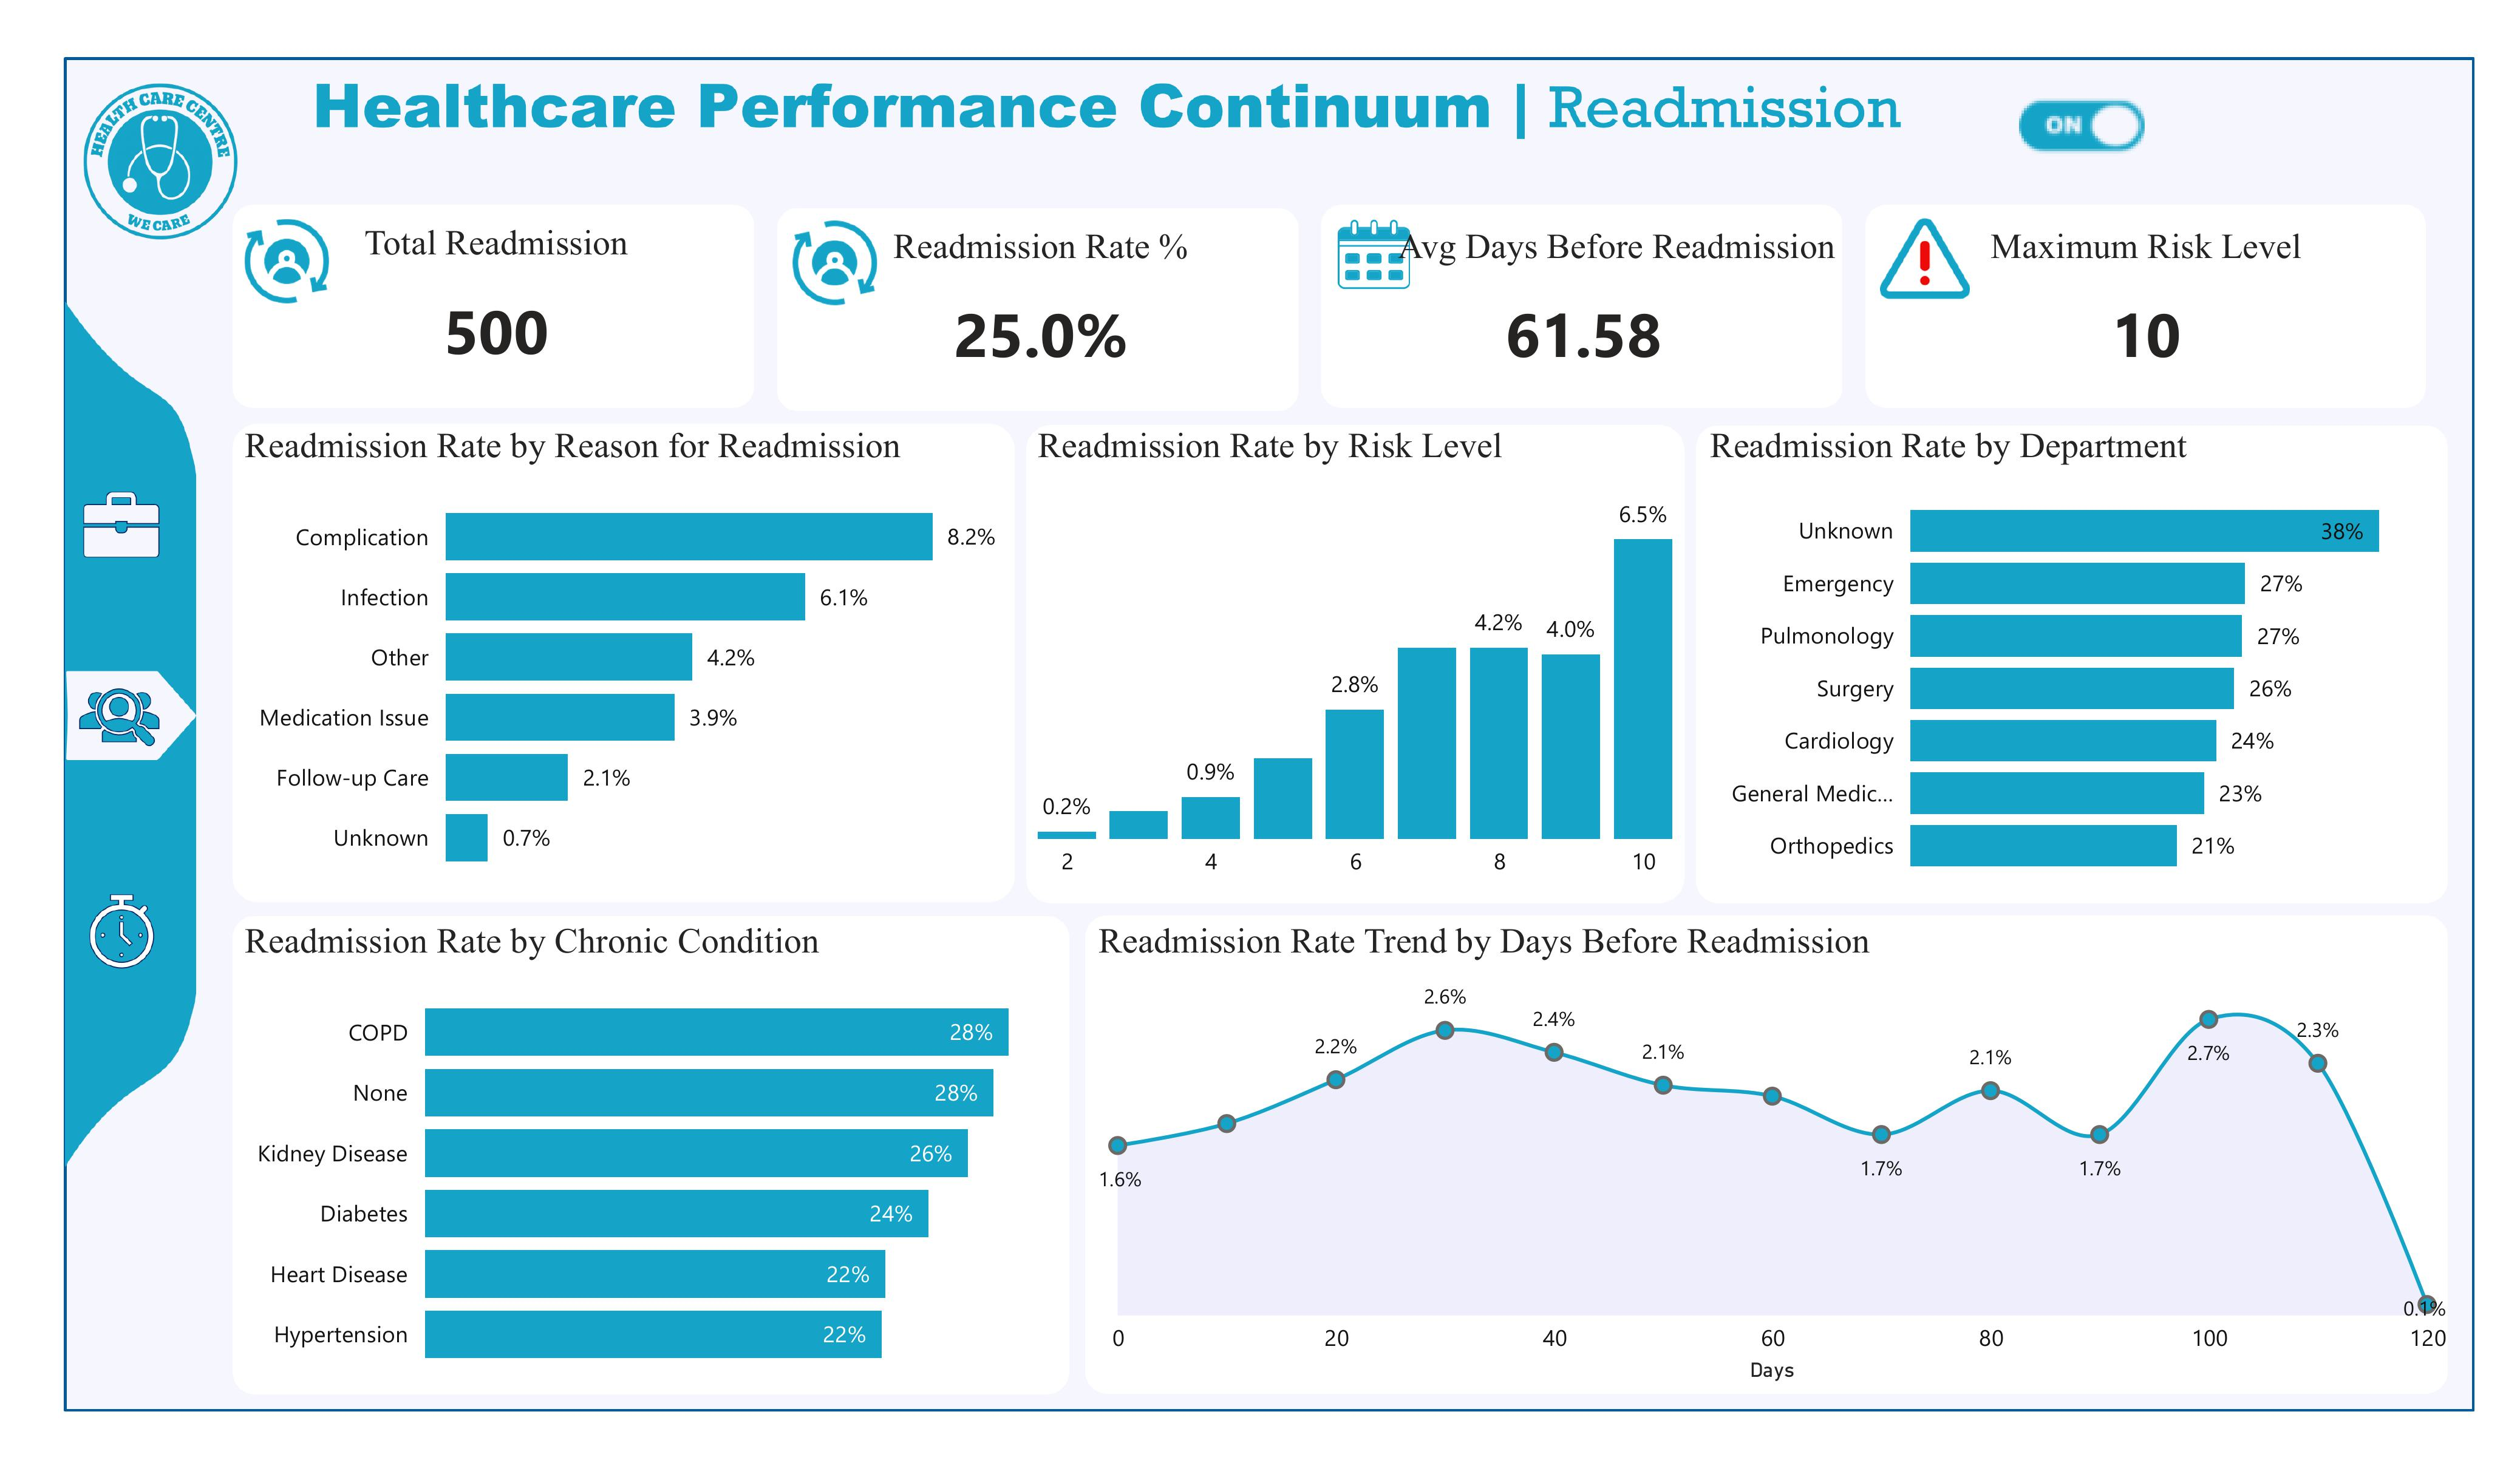

Layout of this report page (visuals, bound fields, positions):
{"tool":"powerbi","page":{"name":"Readmission","canvas":[1280,720],"ordinal":1},"visuals":[{"type":"card","title":"Total Readmission","fields":{"Values":["CountNonNull(Cleaned readmissions.Patient_ID)"]},"box":[100,78.5,275.3,108.6],"z":0},{"type":"card","title":"Readmission Rate %","fields":{"Values":["Cleaned readmissions.Readmission Rate (%)"]},"box":[387.1,80,275.3,108.2],"z":2000},{"type":"card","title":"Avg Days Before Readmission","fields":{"Values":["Avg(Cleaned readmissions.Days_Before_Readmission)"]},"box":[672.9,80,275.3,108.2],"z":3000},{"type":"card","title":"Maximum Risk Level","fields":{"Values":["Max(Cleaned readmissions.Previous_Risk_Score)"]},"box":[961.2,80,291.8,108.2],"z":4000},{"type":"clusteredBarChart","title":"Readmission Rate by Reason for Readmission","fields":{"Category":["Cleaned readmissions.Reason_For_Readmission"],"Y":["Cleaned readmissions.Readmission Rate (%)"]},"box":[100,200,408.2,248.2],"z":5000},{"type":"clusteredColumnChart","title":"Readmission Rate by Risk Level","fields":{"Category":["Cleaned readmissions.Previous_Risk_Score"],"Y":["Cleaned readmissions.Readmission Rate (%)"]},"box":[517.6,200,344.7,248.2],"z":6000},{"type":"clusteredBarChart","title":"Readmission Rate by Department","fields":{"Y":["Cleaned readmissions.Readmission Rate (%)"],"Category":["Cleaned patients.Admission_Department"]},"box":[871.8,200,391.8,249.4],"z":7000},{"type":"clusteredBarChart","title":"Readmission Rate by Chronic Condition","fields":{"Y":["Cleaned readmissions.Readmission Rate (%)"],"Category":["Cleaned patients.Chronic_Condition"]},"box":[100.5,461.2,441.1,249],"z":8000},{"type":"lineChart","title":"Readmission Rate Trend by Days Before Readmission","fields":{"Category":["Cleaned readmissions.Days_Before_Readmission (bins)"],"Y":["Cleaned readmissions.Readmission Rate (%)"]},"box":[550.5,461.2,719.1,247.9],"z":9000},{"type":"actionButton","box":[9.4,229.4,71.8,51.8],"z":10000},{"type":"actionButton","box":[9.4,329.4,71.8,51.8],"z":11000},{"type":"actionButton","box":[10.6,440,71.8,51.8],"z":12000},{"type":"actionButton","title":"F","box":[1015.3,5.9,114.1,74.1],"z":13000}]}

Visuals, with their boxes on the page's 1280x720 design canvas (x1, y1, x2, y2). These are canvas units, not pixel positions in the 2520x1457 screenshot, which may show the page scaled, cropped or inside an application window:
"Total Readmission" card: [100,78,375,187]
"Readmission Rate %" card: [387,80,662,188]
"Avg Days Before Readmission" card: [673,80,948,188]
"Maximum Risk Level" card: [961,80,1253,188]
"Readmission Rate by Reason for Readmission" clusteredBarChart: [100,200,508,448]
"Readmission Rate by Risk Level" clusteredColumnChart: [518,200,862,448]
"Readmission Rate by Department" clusteredBarChart: [872,200,1264,449]
"Readmission Rate by Chronic Condition" clusteredBarChart: [100,461,542,710]
"Readmission Rate Trend by Days Before Readmission" lineChart: [550,461,1270,709]
actionButton: [9,229,81,281]
actionButton: [9,329,81,381]
actionButton: [11,440,82,492]
"F" actionButton: [1015,6,1129,80]
